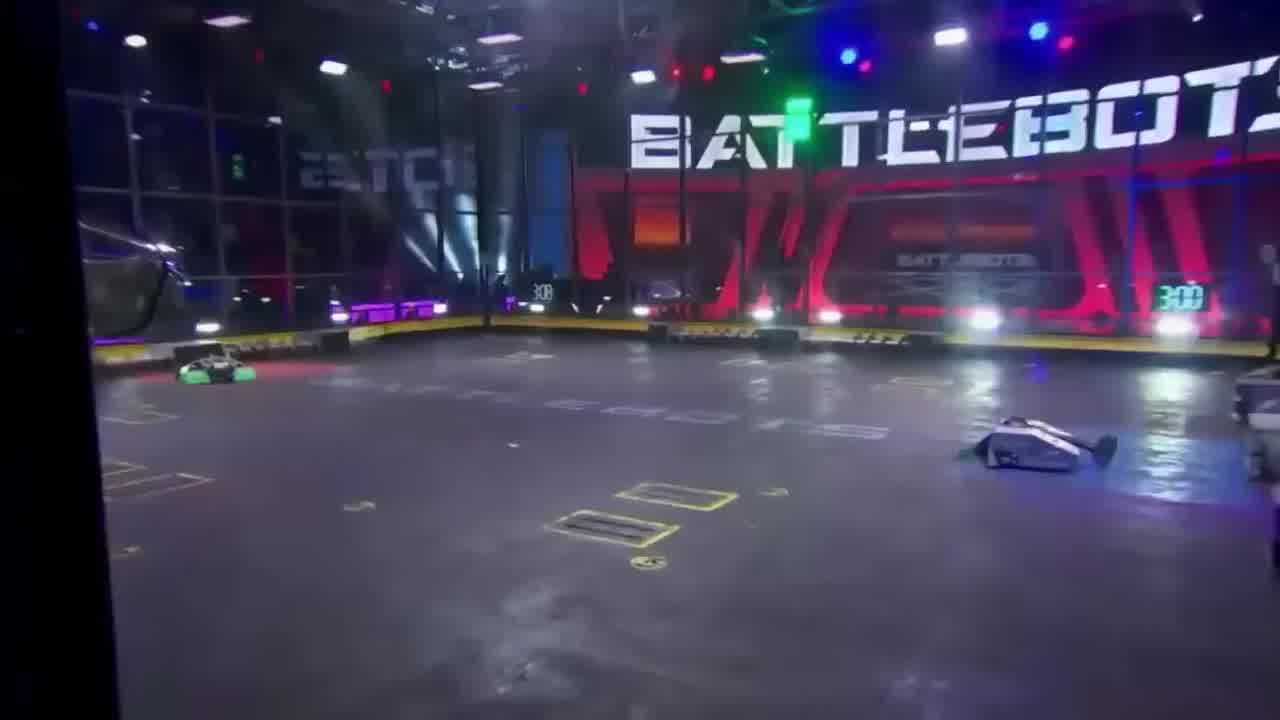combatbot: (961, 414, 1116, 480), (172, 348, 259, 386)
